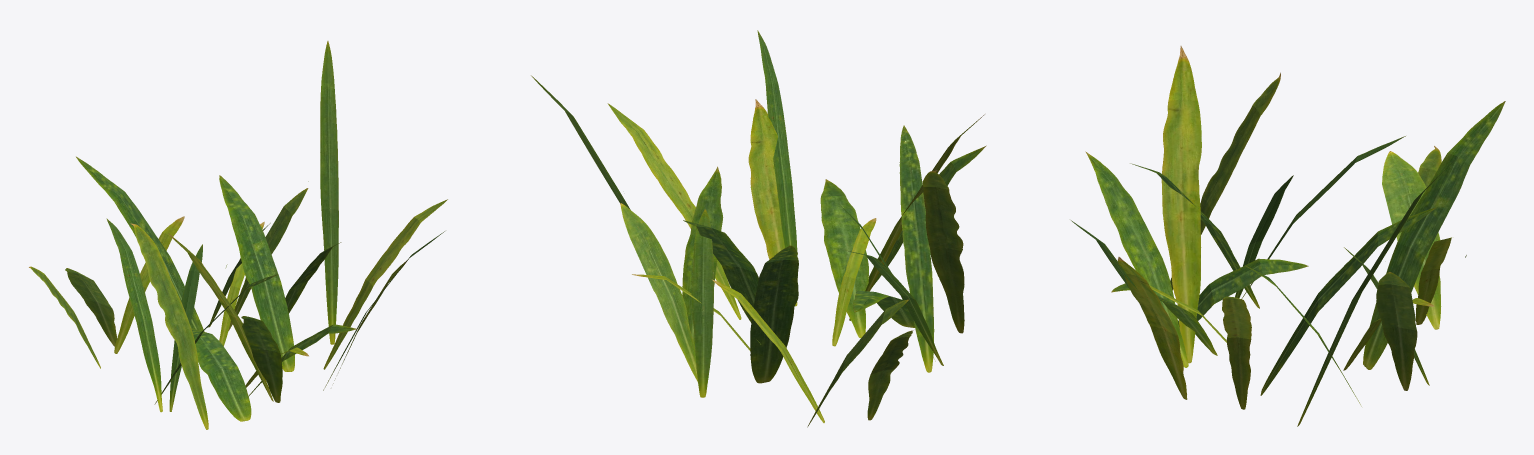
Rendered from grass_01.glb.
The picture shows the model from 3 angles, left to right: view 1: azimuth 30°, elevation 25°; view 2: azimuth 150°, elevation 25°; view 3: azimuth 270°, elevation 25°; orthographic projection. The views are drawn at different scales.
Visible parts, largest first — view 1: grass_01; view 2: grass_01; view 3: grass_01.
Boxes of the visible parts, <box> form: grass_01: <box>29,41,447,429</box>; grass_01: <box>531,30,986,427</box>; grass_01: <box>1071,46,1505,426</box>.
Bounding box in the file's own units: 1 × 0.6893 × 0.8742.
1 material, 1 textured.
